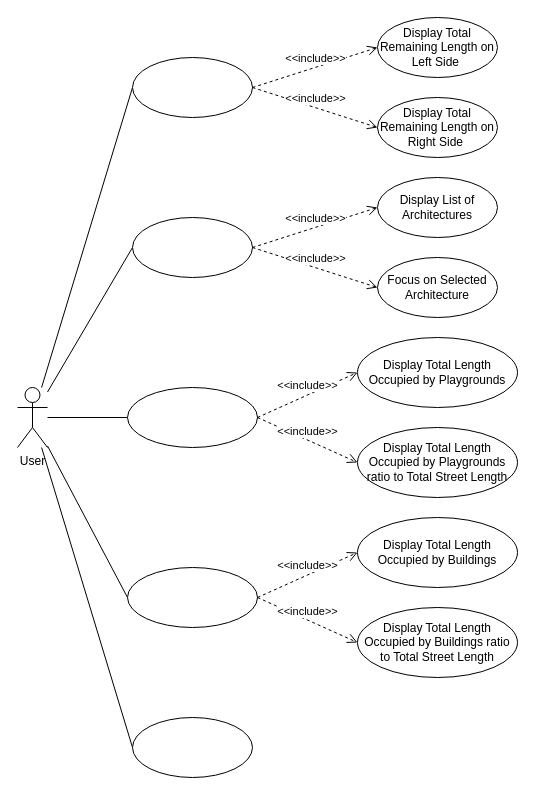
This 535x795 diagram has some shape labels left out. The centre of each missing label's shape, as x and y in pixels:
"Display Architectures" belongs at point 192,247.
"Display Building Length Occupation Info" belongs at point 192,597.
"Display Playground Length Occupation Info" belongs at point 192,417.
"Display Street Silhouette" belongs at point 192,747.
"Display Total Remaining Lengths" belongs at point 192,87.
